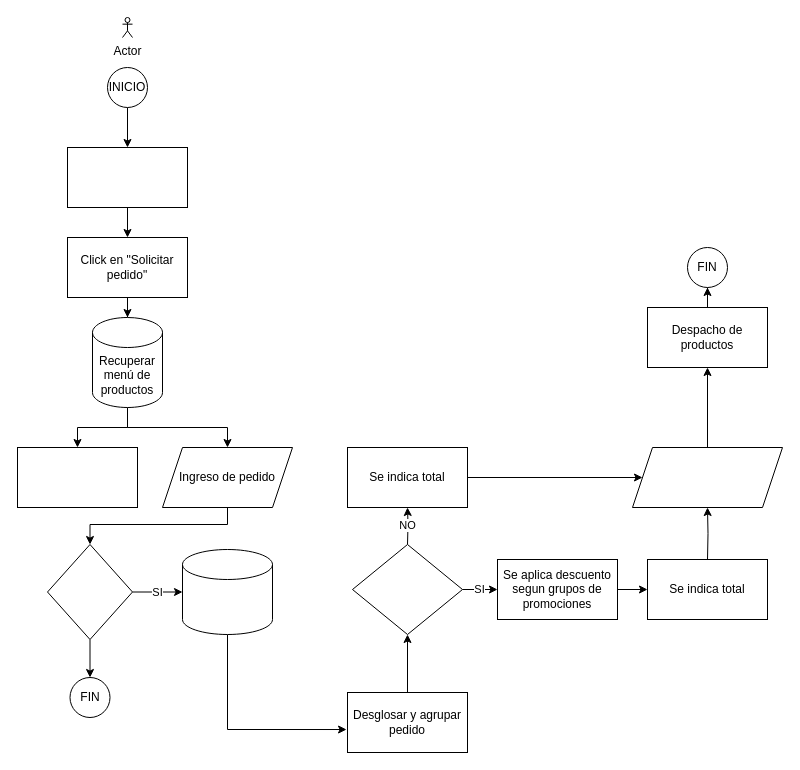
Image size: 800x770. Some labels were removed from this diagram. Here are the shapes that lost their labels. From the top down, the centre of each, then its label:
the point at 127,177: Ingreso a página de pedidos
the point at 77,477: Se despliega menú de productos
the point at 707,477: Se solicita dirección y contacto para despacho
the point at 89,592: ¿Ingreso al menos un producto?
the point at 227,591: Recuperar promociones
the point at 407,589: ¿los grupos concuerda con promociones?
